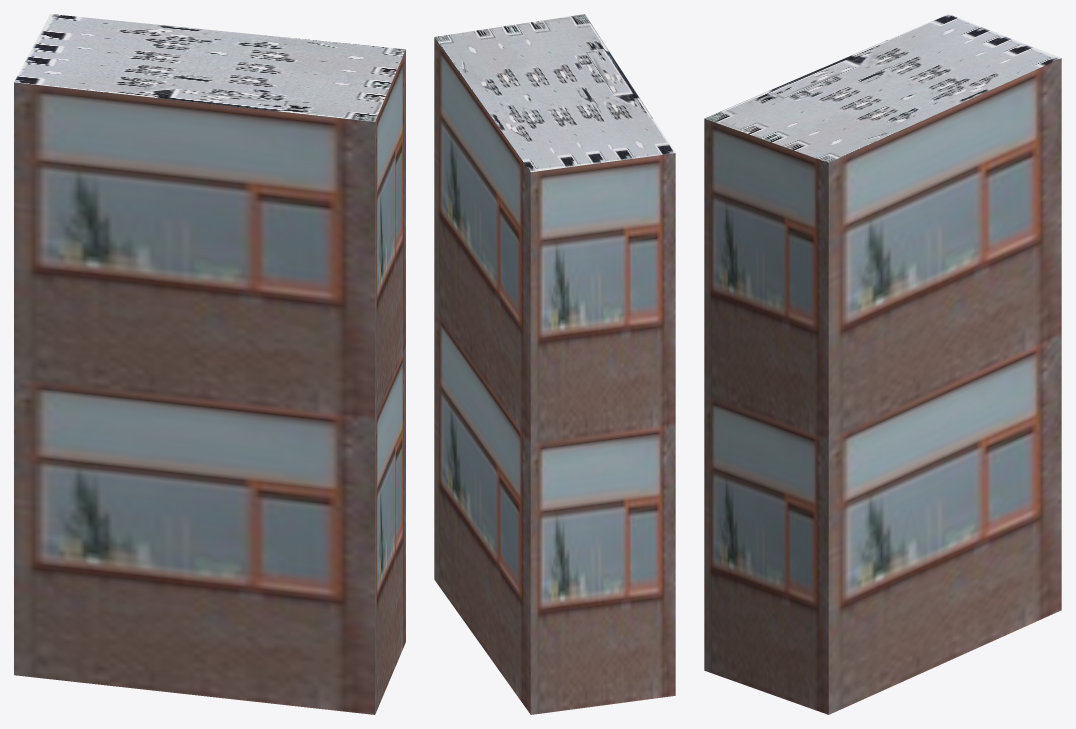
Rendered from ResTex__2292.fbx.
The picture shows the model from 3 angles, left to right: view 1: azimuth 30°, elevation 25°; view 2: azimuth 150°, elevation 25°; view 3: azimuth 270°, elevation 25°; orthographic projection. The views are drawn at different scales.
Parts seen in each view (by area): view 1: CityEngineMaterial_19_m, CityEngineMaterial_15_m; view 2: CityEngineMaterial_19_m, CityEngineMaterial_15_m; view 3: CityEngineMaterial_19_m, CityEngineMaterial_15_m.
Part boxes in pixels (box(x1,y1,x2,y2)): CityEngineMaterial_19_m: box(14, 50, 405, 714); CityEngineMaterial_15_m: box(14, 14, 405, 121); CityEngineMaterial_19_m: box(434, 37, 675, 714); CityEngineMaterial_15_m: box(434, 14, 675, 172); CityEngineMaterial_19_m: box(704, 58, 1061, 714); CityEngineMaterial_15_m: box(704, 14, 1061, 162).
Bounding box in the file's own units: 3.47 × 6 × 3.52.
Materials: 2 (2 with a texture image).
